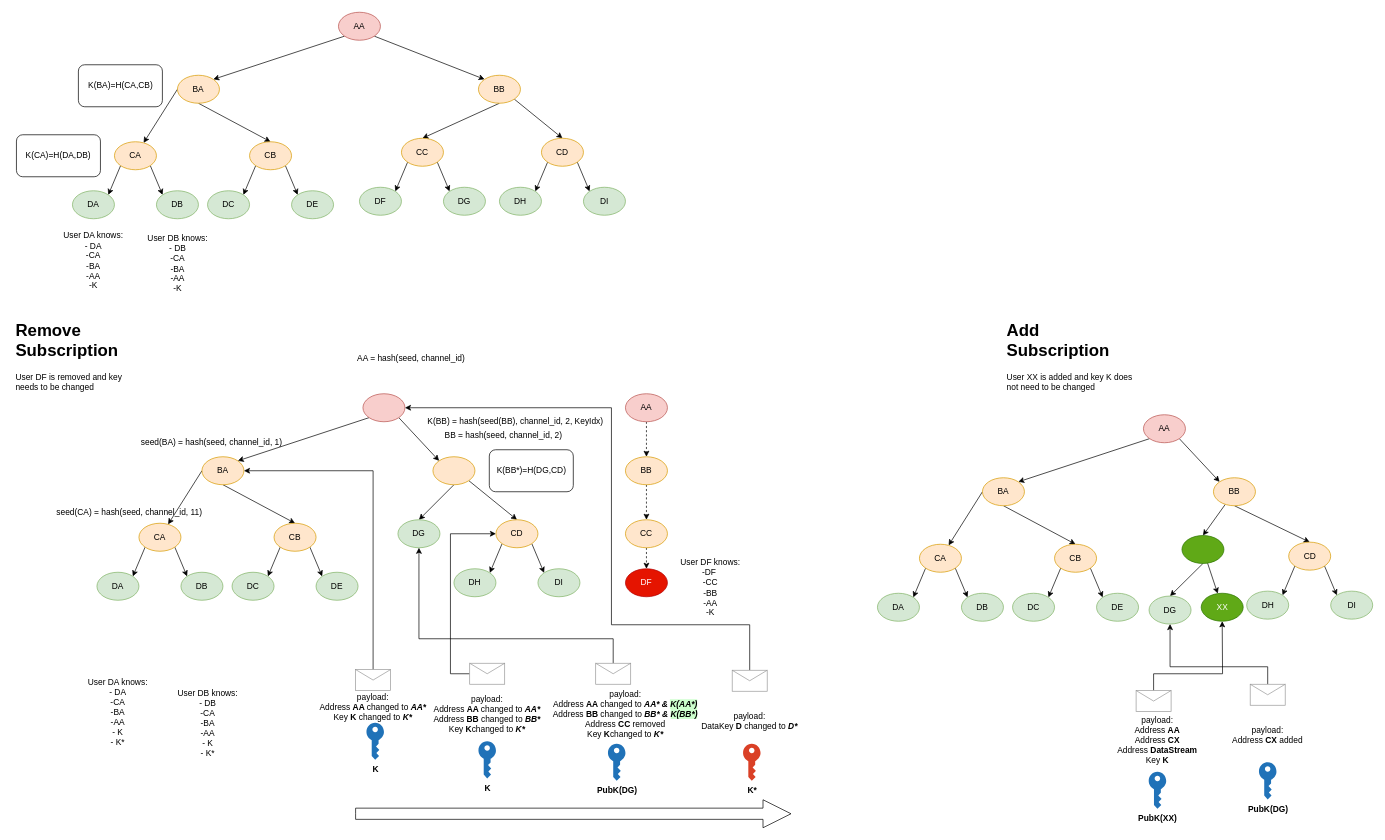
Some shapes in this 1385 by 840 pixel diagram are drawn without their labels. Each missing label, with the centre of its shape:
"AA*" belongs at (x=383, y=407).
"BB*" belongs at (x=453, y=470).
"CX" belongs at (x=1202, y=549).
"time" belongs at (x=573, y=813).
